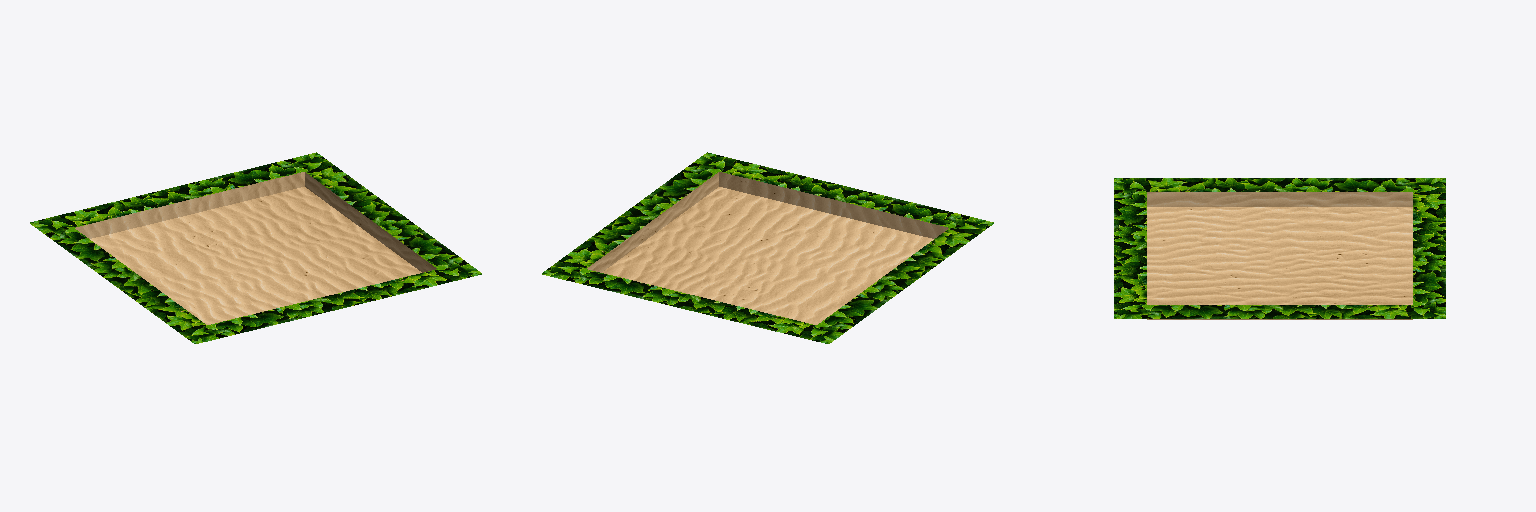
The picture shows the model from 3 angles: view 1: azimuth 30°, elevation 25°; view 2: azimuth 150°, elevation 25°; view 3: azimuth 270°, elevation 25°; orthographic projection.
Parts seen in each view (by area): view 1: Cube; view 2: Cube; view 3: Cube.
Boxes of the visible parts, box(x1,y1,x2,y2) form: Cube: box(30, 152, 481, 343); Cube: box(542, 152, 993, 343); Cube: box(1114, 178, 1445, 319).
Bounding box in the file's own units: 20 × 1 × 20.
Materials: 1 (1 with a texture image).